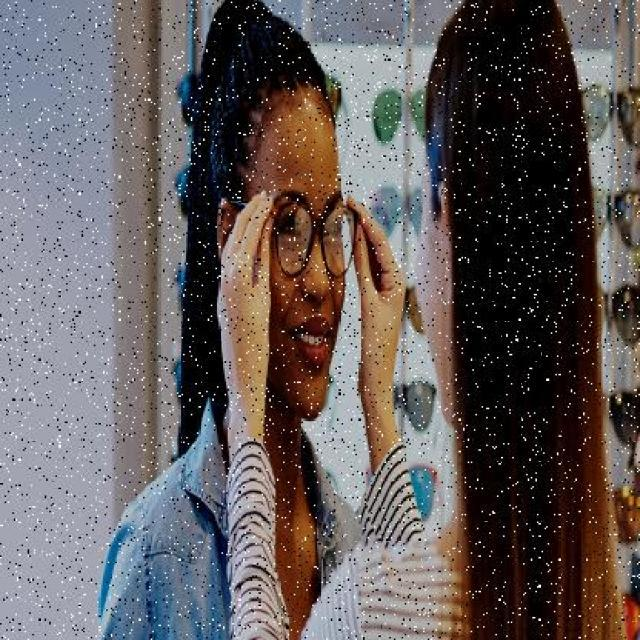glasses: (254, 186, 364, 274)
